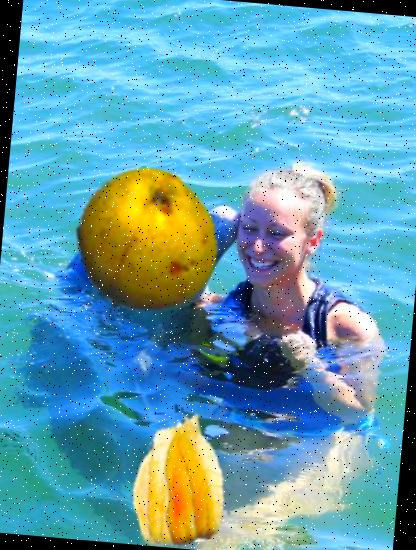Pear: (68, 160, 227, 318)
Physalis: (106, 411, 246, 550)
